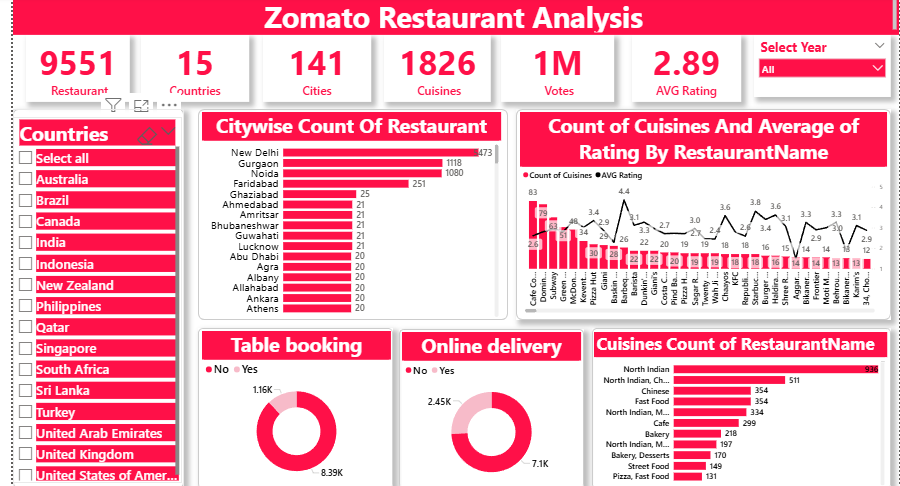

The dashboard page shown, as its layout file describes it:
{"tool":"powerbi","page":{"name":"Page 1","canvas":[1800,1000],"ordinal":0},"visuals":[{"type":"card","fields":{"Values":["Sheet1.Total Resturant"]},"box":[26.4,77.2,211.4,136.2],"z":0},{"type":"card","fields":{"Values":["CountNonNull(Sheet2.countryID)"]},"box":[260.2,77.2,219.5,136.2],"z":1000},{"type":"card","fields":{"Values":["Count(Sheet1.City)"]},"box":[508.1,77.2,219.5,136.2],"z":2000},{"type":"card","fields":{"Values":["Sum(Sheet1.Votes)"]},"box":[991.9,77.2,229.7,136.2],"z":3000},{"type":"card","fields":{"Values":["Sheet1.AVG Rating"]},"box":[1258.1,77.2,221.5,136.2],"z":4000},{"type":"card","fields":{"Values":["Count(Sheet1.Cuisines)"]},"box":[754.1,77.2,217.5,136.2],"z":5000},{"type":"slicer","fields":{"Values":["Sheet1.Datekey_Opening.Variation.Date Hierarchy.Year"]},"box":[1506.1,77.2,278.5,126],"z":6000},{"type":"shape","box":[-0.1,228.4,347.6,770.3],"z":6000,"group":"g5"},{"type":"group","id":"g1","title":"Group 2","box":[1022.4,227.6,762.2,428.9],"z":7000},{"type":"slicer","fields":{"Values":["Sheet2.country name"]},"box":[0.2,243.9,343.5,743.9],"z":7000,"group":"g5"},{"type":"group","id":"g2","title":"Group 3","box":[376,672.8,396.3,327.2],"z":8000},{"type":"group","id":"g3","title":"Group 4","box":[785.5,674.5,376,325.2],"z":9000},{"type":"group","id":"g4","title":"Group 5","box":[1176.8,672.8,607.7,327.2],"z":10000},{"type":"group","id":"g5","title":"Group 6","box":[-0.1,228.4,347.6,770.3],"z":11000},{"type":"shape","box":[376,672.8,396.3,327.2],"z":11000,"group":"g2"},{"type":"textbox","box":[0,0,1800.8,77.2],"z":12000},{"type":"shape","box":[376,227.6,630.1,428.9],"z":12000,"group":"g6"},{"type":"donutChart","title":"Table booking","fields":{"Category":["Sheet1.Has_Table_booking"],"Y":["CountNonNull(Sheet1.RestaurantName)"]},"box":[384.1,679.4,384.1,315],"z":12000,"group":"g2"},{"type":"group","id":"g6","title":"Group 1","box":[376,227.6,630.1,428.9],"z":13000},{"type":"barChart","title":"Citywise Count Of Restaurant","fields":{"Y":["Sheet1.Total Resturant"],"Category":["Sheet1.City"]},"box":[384.1,233.8,607.7,416.5],"z":13000,"group":"g6"},{"type":"shape","box":[785.5,674.5,376,325.2],"z":13000,"group":"g3"},{"type":"donutChart","title":"Online delivery","fields":{"Category":["Sheet1.Has_Online_delivery"],"Y":["CountNonNull(Sheet1.RestaurantName)"]},"box":[790.7,679.6,363.8,317.1],"z":14000,"group":"g3"},{"type":"shape","box":[1176.8,672.8,607.7,327.2],"z":15000,"group":"g4"},{"type":"barChart","title":"Cuisines Count of RestaurantName","fields":{"Category":["Sheet1.Cuisines"],"Y":["CountNonNull(Sheet1.RestaurantName)"]},"box":[1181.2,681.4,595.5,317.1],"z":16000,"group":"g4"},{"type":"shape","box":[1022.4,227.6,762.2,428.9],"z":17000,"group":"g1"},{"type":"lineStackedColumnComboChart","title":"Count of Cuisines And Average of Rating By RestaurantName","fields":{"Y":["CountNonNull(Sheet1.Cuisines)"],"Y2":["Sheet1.AVG Rating"],"Category":["Sheet1.RestaurantName"]},"box":[1029.8,234.4,745.9,412.6],"z":18000,"group":"g1"}]}

Visuals, with their boxes in screenshot pixels (x1, y1, x2, y2), scaled from the page's 1800x1000 canvas onto the 900x486 screenshot:
card - Sheet1.Total Resturant: region(13, 38, 119, 104)
card - CountNonNull(Sheet2.countryID): region(130, 38, 240, 104)
card - Count(Sheet1.City): region(254, 38, 364, 104)
card - Sum(Sheet1.Votes): region(496, 38, 611, 104)
card - Sheet1.AVG Rating: region(629, 38, 740, 104)
card - Count(Sheet1.Cuisines): region(377, 38, 486, 104)
slicer - Sheet1.Datekey_Opening.Variation.Date Hierarchy.Year: region(753, 38, 892, 99)
shape: region(0, 111, 174, 485)
"Group 2" group: region(511, 111, 892, 319)
slicer - Sheet2.country name: region(0, 119, 172, 480)
"Group 3" group: region(188, 327, 386, 485)
"Group 4" group: region(393, 328, 581, 485)
"Group 5" group: region(588, 327, 892, 485)
"Group 6" group: region(0, 111, 174, 485)
shape: region(188, 327, 386, 485)
textbox: region(0, 0, 899, 38)
shape: region(188, 111, 503, 319)
"Table booking" donutChart: region(192, 330, 384, 483)
"Group 1" group: region(188, 111, 503, 319)
"Citywise Count Of Restaurant" barChart: region(192, 114, 496, 316)
shape: region(393, 328, 581, 485)
"Online delivery" donutChart: region(395, 330, 577, 484)
shape: region(588, 327, 892, 485)
"Cuisines Count of RestaurantName" barChart: region(591, 331, 888, 485)
shape: region(511, 111, 892, 319)
"Count of Cuisines And Average of Rating By RestaurantName" lineStackedColumnComboChart: region(515, 114, 888, 314)
